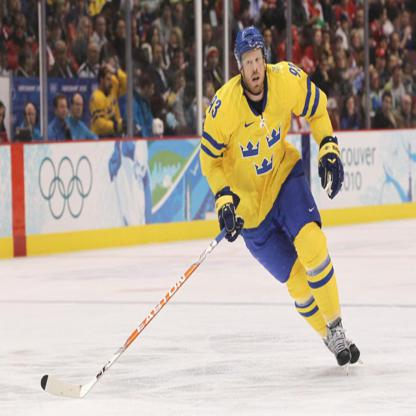face: (243, 50, 266, 89), (57, 43, 68, 65), (25, 105, 37, 125), (74, 97, 84, 118), (58, 100, 68, 120), (105, 73, 114, 95), (118, 22, 128, 40), (90, 46, 100, 63), (209, 52, 220, 67), (98, 18, 106, 36), (129, 22, 138, 38), (176, 79, 187, 92), (176, 53, 186, 67), (395, 71, 403, 88), (146, 87, 155, 102), (16, 24, 25, 39), (356, 12, 365, 27), (155, 47, 163, 63), (26, 55, 34, 71), (83, 22, 91, 38), (328, 107, 337, 121), (204, 27, 212, 42), (176, 5, 184, 20), (393, 35, 401, 50), (265, 32, 273, 46), (384, 98, 391, 114), (404, 100, 412, 114), (390, 56, 397, 72), (54, 26, 63, 38), (165, 5, 172, 20), (348, 100, 355, 115), (316, 33, 323, 48), (207, 83, 215, 96), (372, 76, 380, 89), (186, 96, 195, 107), (352, 37, 361, 48), (152, 32, 159, 45), (171, 37, 178, 50), (323, 33, 331, 44), (338, 57, 345, 69), (12, 2, 20, 11), (322, 60, 328, 71), (403, 13, 408, 26), (378, 57, 384, 67), (384, 10, 388, 24), (337, 40, 342, 51)
